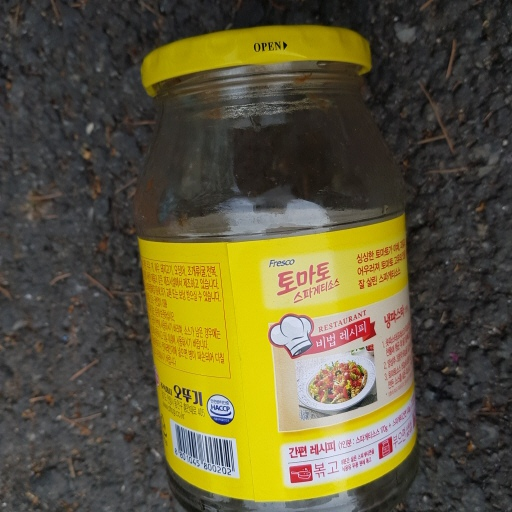Glass_5: (120, 25, 422, 509)
